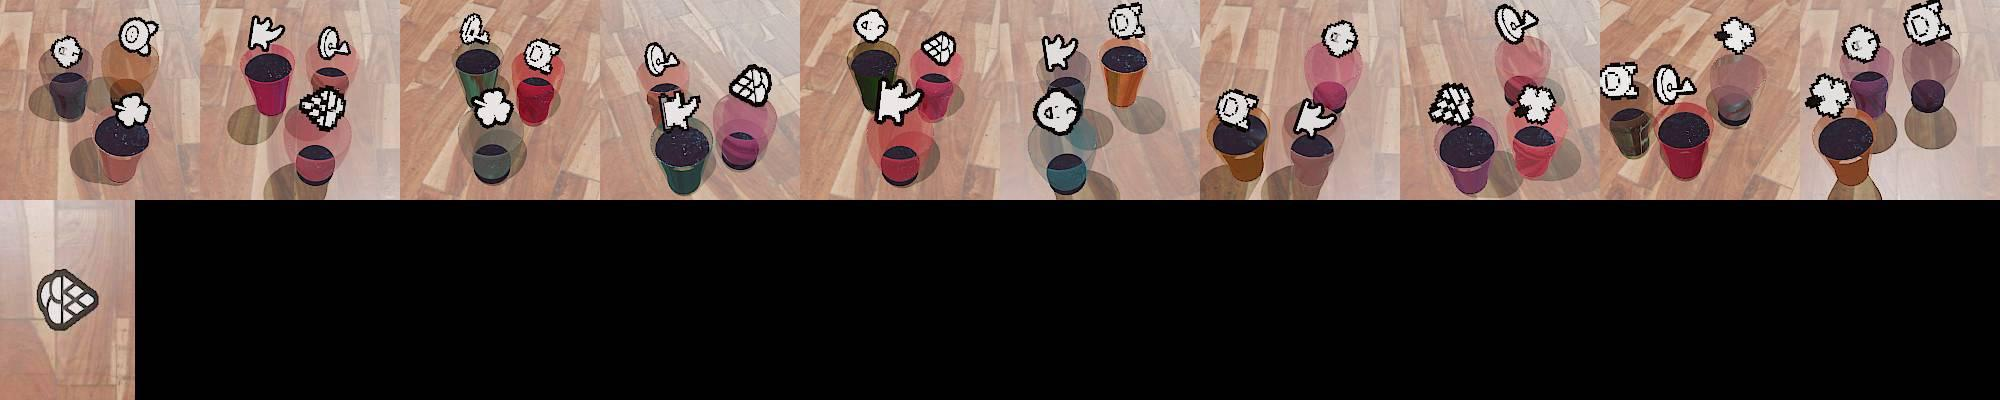icon: (1426, 81, 1476, 127), (1106, 1, 1148, 41)
